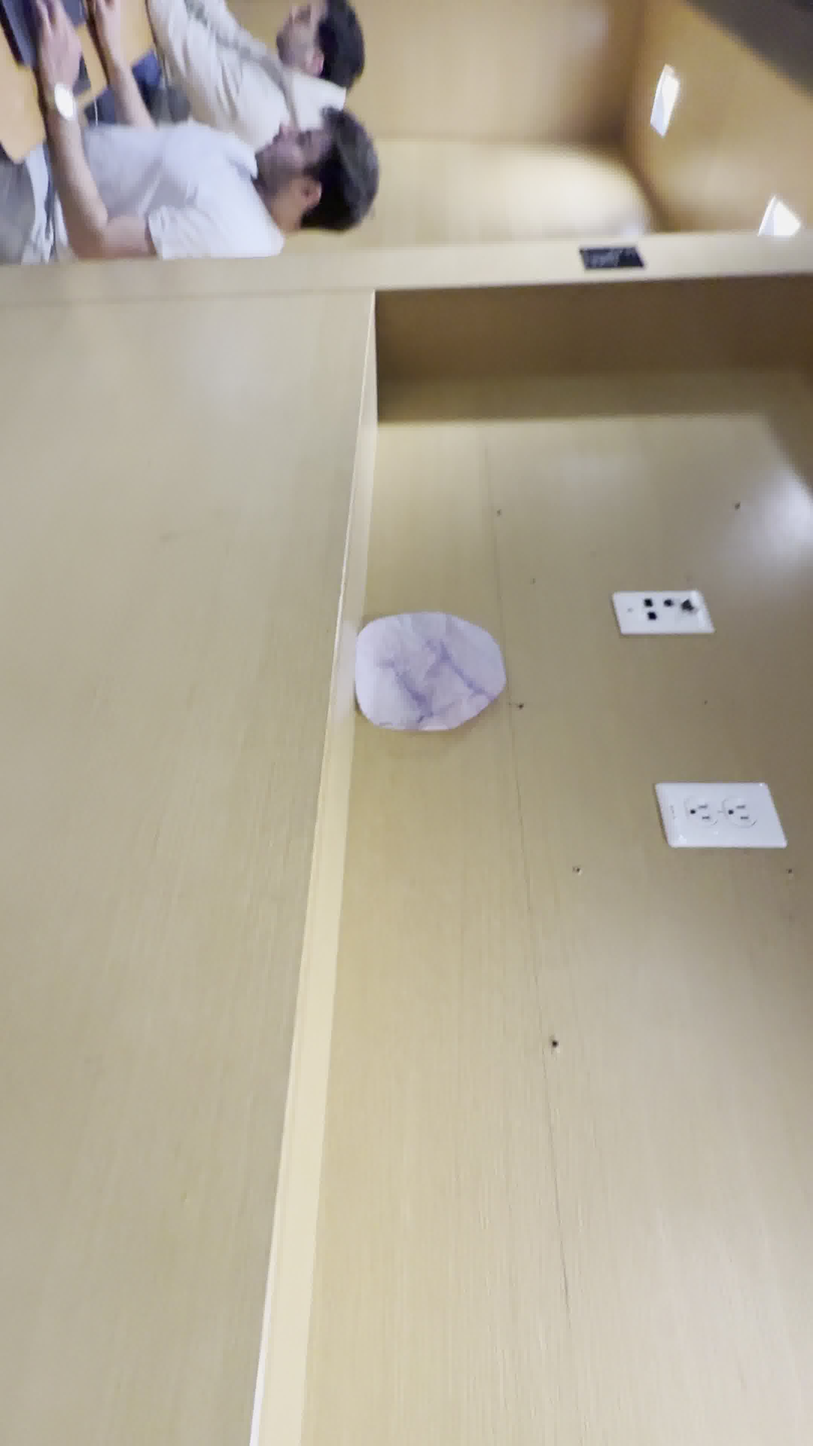Target: (349, 610, 502, 734)
